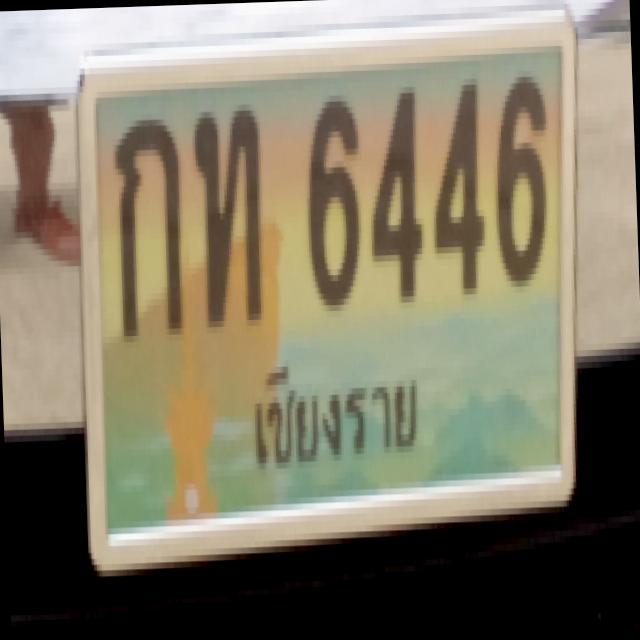license_plate: (73, 13, 581, 570)
